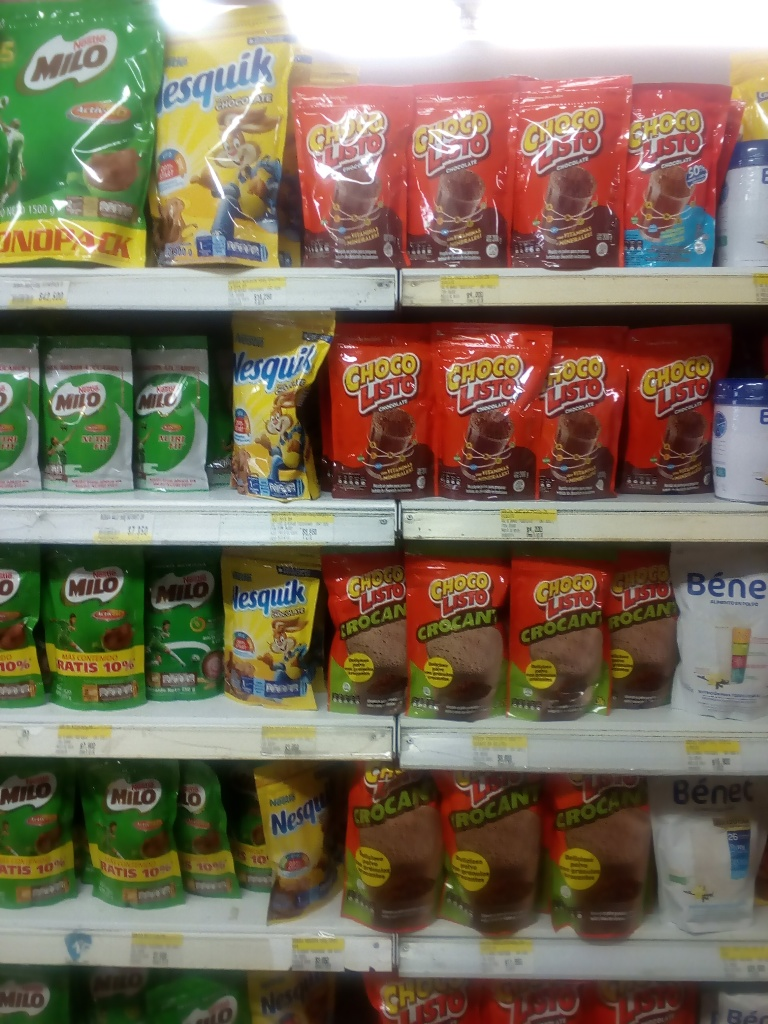COL0170102DYP25000: (318, 541, 409, 723)
COL0170102DYP50000: (339, 765, 442, 940)
COL0170104DYP20000: (620, 81, 732, 269)
COL0170205DYP20000: (139, 556, 227, 702)
COL0170303DYP20000: (216, 543, 321, 710)
